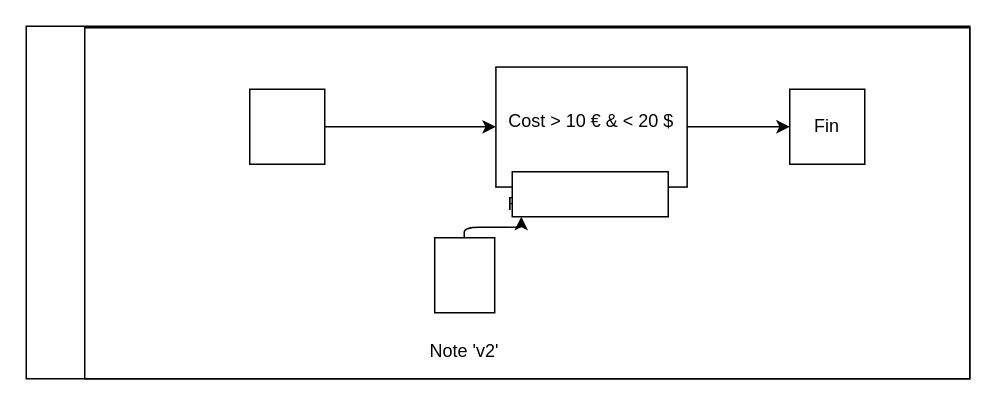
Image size: 996x405. Some labels were removed from this diagram. Each missing label, with the box of its shape:
Début: (248, 88, 325, 164)
Tool "A" & B: (511, 170, 668, 217)
